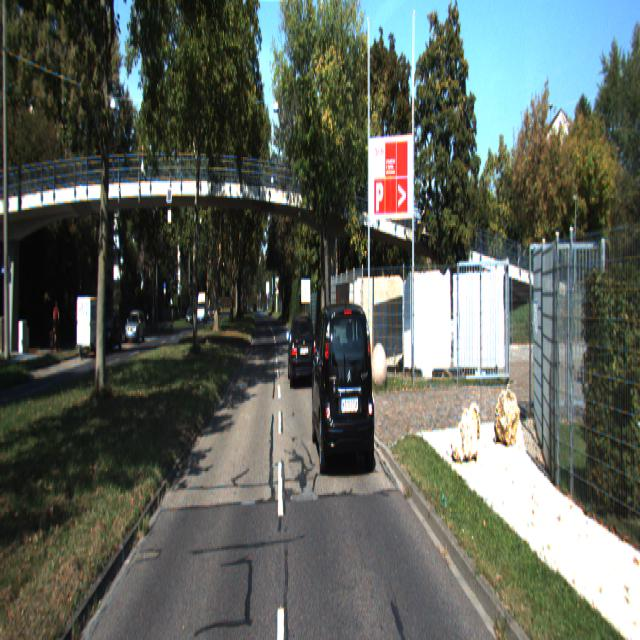Car: (310, 293, 378, 475), (287, 312, 316, 388), (124, 310, 145, 344)
